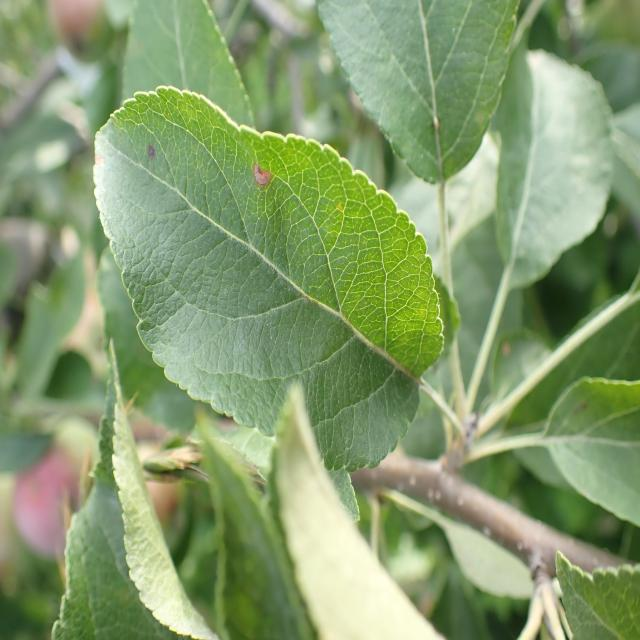frog-eye-leaf-spot: (92, 86, 446, 474)
